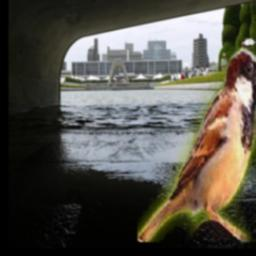Sparrow: (138, 47, 256, 242)
